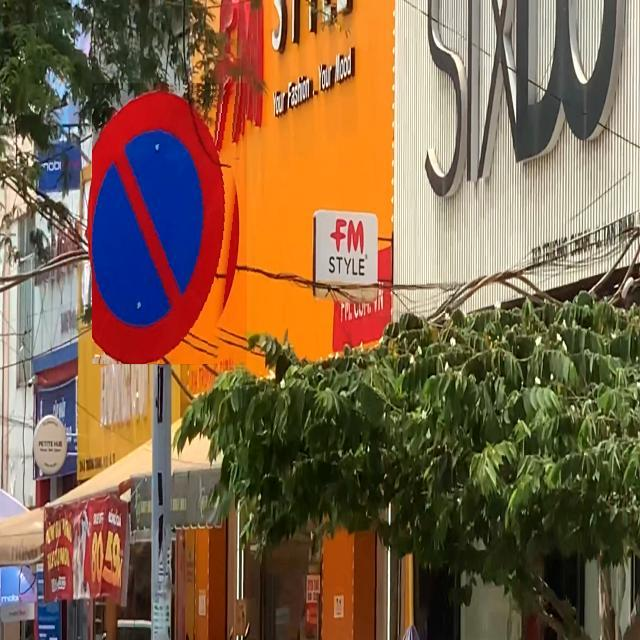P-131a: (92, 84, 247, 366)
